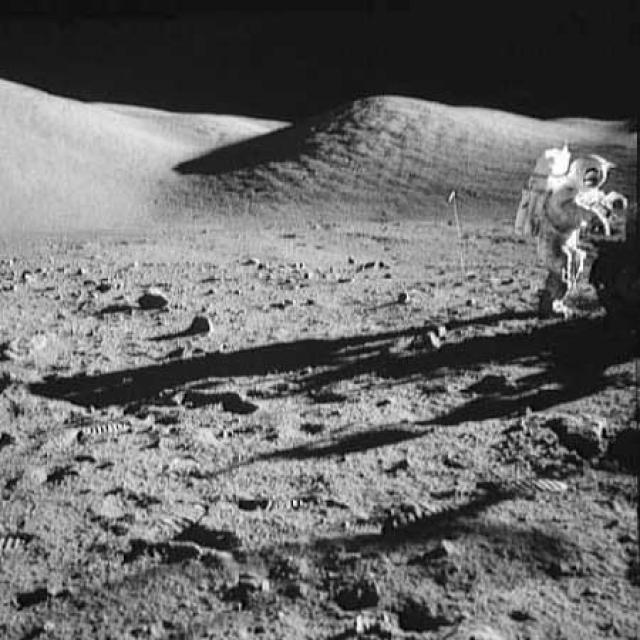rock: (409, 320, 459, 354), (219, 384, 254, 420), (131, 284, 170, 310), (179, 307, 215, 333)
